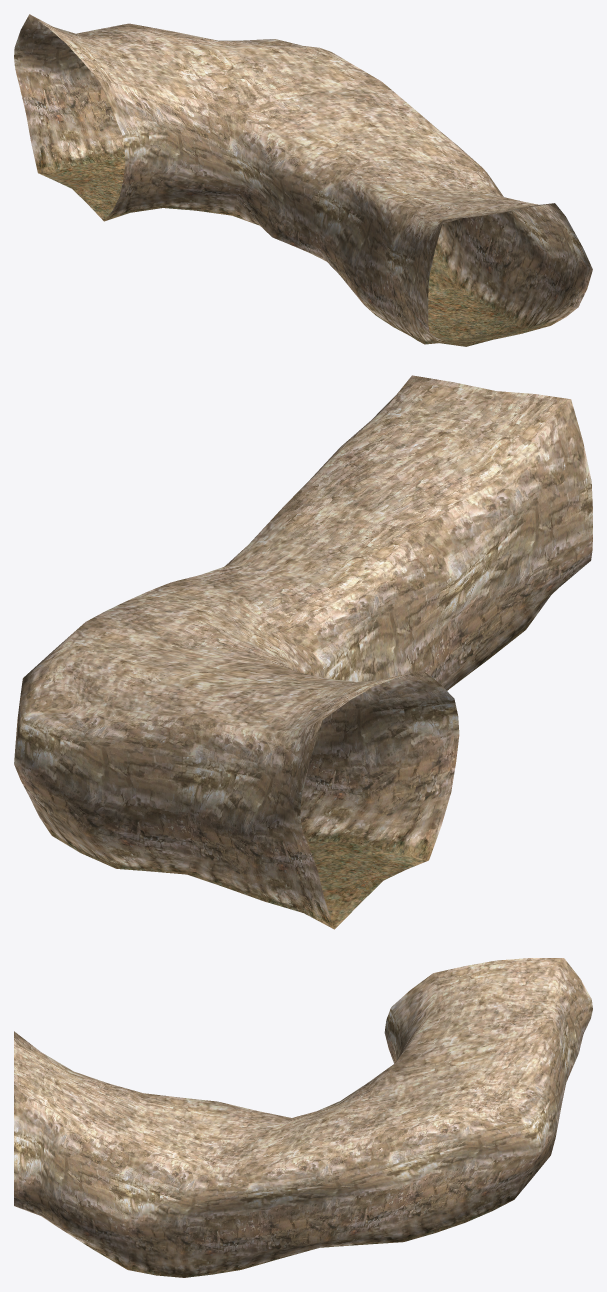
File: thm_all_cave_s02_mirror_r10_mesh_r10.fbx
3 views of the same model, one above another, from view 1: azimuth 30°, elevation 25°; view 2: azimuth 150°, elevation 25°; view 3: azimuth 270°, elevation 25° (orthographic). The views are drawn at different scales.
Parts seen in each view (by area): view 1: mesh_node; view 2: mesh_node; view 3: mesh_node.
Part boxes in pixels (left/top/right/bottom): mesh_node: left=14, top=14, right=592, bottom=346; mesh_node: left=14, top=375, right=592, bottom=929; mesh_node: left=14, top=958, right=592, bottom=1277.
Bounding box in the file's own units: 22.26 × 15.73 × 41.06.
